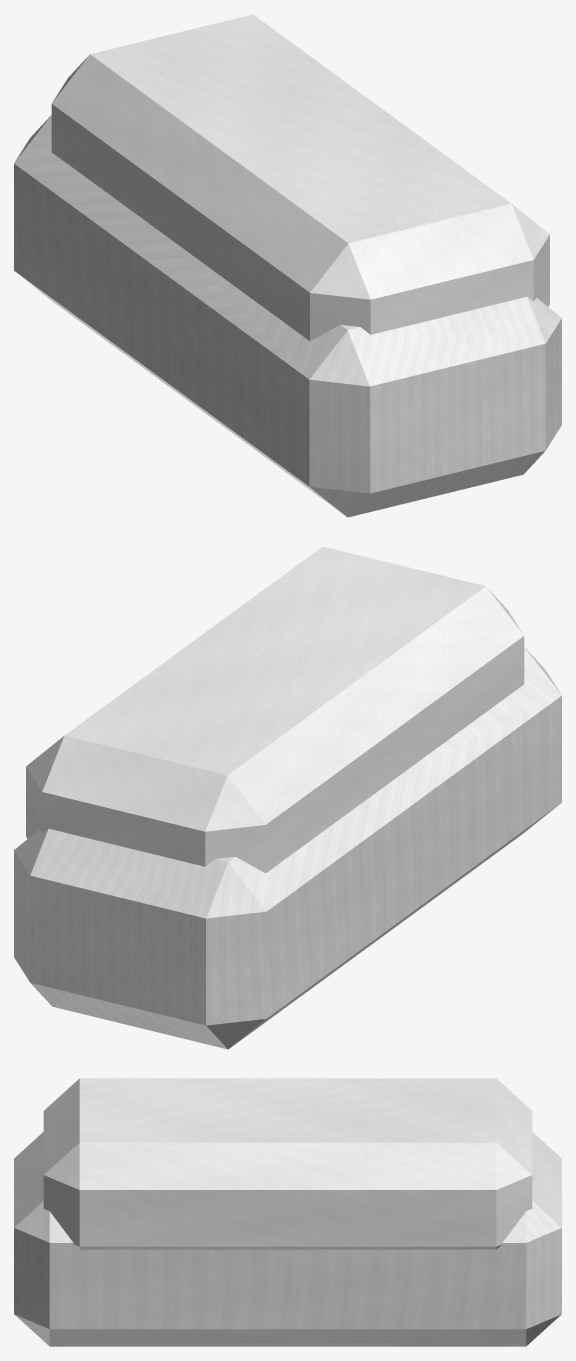
Rendered from Field_Medic_Forearm_Guard_R_LOD1.glb.
3 views of the same model, one above another, from view 1: azimuth 30°, elevation 25°; view 2: azimuth 150°, elevation 25°; view 3: azimuth 270°, elevation 25° (orthographic). The views are drawn at different scales.
Visible parts, largest first — view 1: Field_Medic_Forearm_Guard_R_LOD1; view 2: Field_Medic_Forearm_Guard_R_LOD1; view 3: Field_Medic_Forearm_Guard_R_LOD1.
Boxes of the visible parts, x1,y1,x2,y2 form: Field_Medic_Forearm_Guard_R_LOD1: (14, 14, 561, 517); Field_Medic_Forearm_Guard_R_LOD1: (14, 546, 561, 1049); Field_Medic_Forearm_Guard_R_LOD1: (14, 1078, 561, 1346).
Size of the model in its own units: 0.081 by 0.0765 by 0.184.
Materials: 2 (2 with a texture image).
